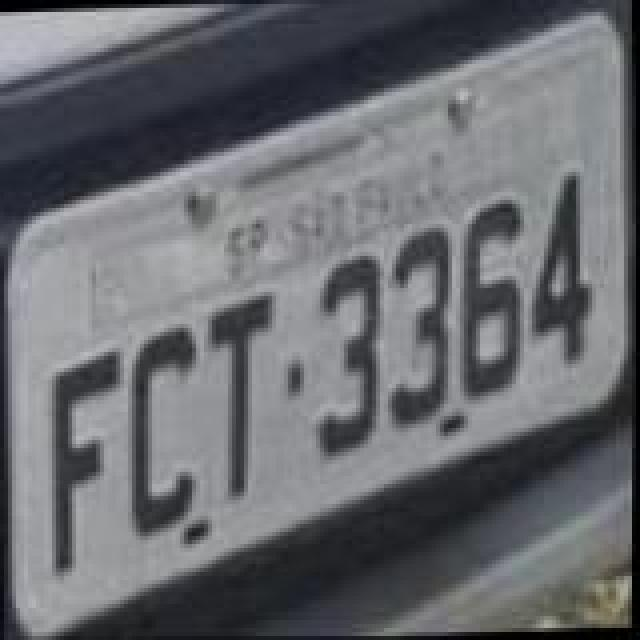3: (308, 250, 392, 462), (378, 222, 462, 430)
4: (520, 168, 596, 368)
6: (452, 192, 532, 400)
C: (124, 318, 208, 538)
F: (42, 344, 130, 576)
T: (200, 288, 284, 496)
